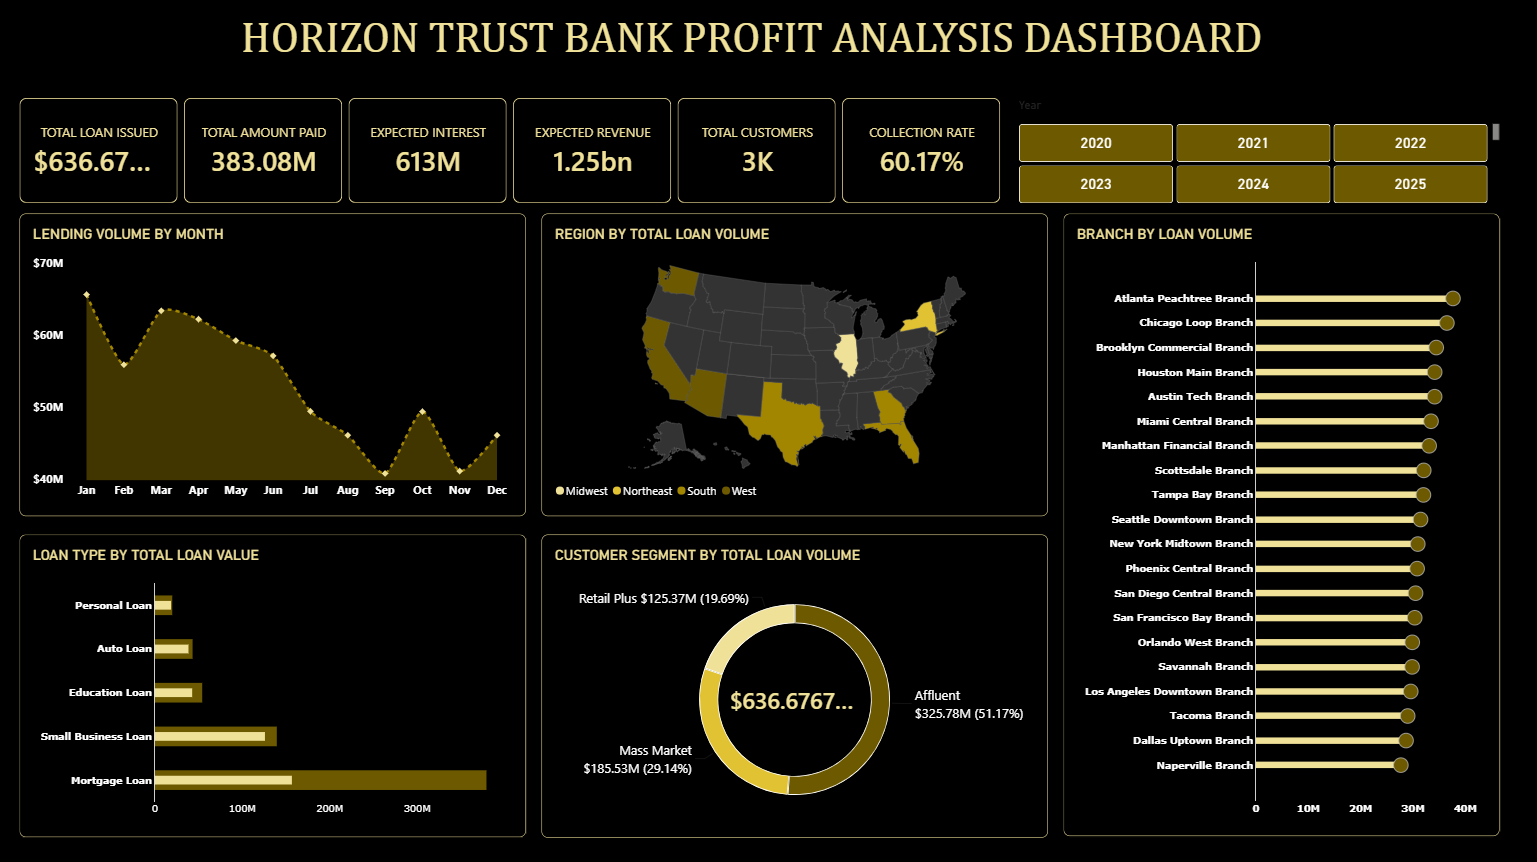

The page's visual inventory and layout, read from the dashboard file:
{"tool":"powerbi","page":{"name":"PROFIT","canvas":[1920,1080],"ordinal":0},"visuals":[{"type":"cardVisual","fields":{"Data":["MEASURES DIM.TOTAL LOAN ISSUED","MEASURES DIM.TOTAL AMOUNT PAID","MEASURES DIM.TOTAL EXPECTED INTEREST","MEASURES DIM.EXPECTED REVENUE","MEASURES DIM.TOTAL CUSTOMERS","MEASURES DIM.COLLECTION RATE"]},"box":[32.1,126.1,1219.9,130.7],"z":0},{"type":"lineChart","title":"LENDING VOLUME BY MONTH","fields":{"Category":["CALENDER DIM.Month(SF)"],"Y":["MEASURES DIM.TOTAL LOAN ISSUED"]},"box":[32.1,270.6,628,375],"z":1000},{"type":"horizontalbullechartAD848DB2E71C1BBC88C027512FD82044","title":"LOAN TYPE BY TOTAL LOAN VALUE","fields":{"col_0":["LOAN TYPE DIM.LoanTypeName"],"col_2":["MEASURES DIM.TOTAL LOAN ISSUED"],"col_1":["MEASURES DIM.TOTAL AMOUNT PAID"]},"box":[32.1,667.3,628,375],"z":2000},{"type":"shapeMap","title":"REGION BY TOTAL LOAN VOLUME","fields":{"Category":["STATE DIM.StateName"],"Series":["STATE DIM.MarketRegion"],"Value":["MEASURES DIM.TOTAL LOAN ISSUED"]},"box":[678.7,270.6,628,375],"z":3000},{"type":"lollipopbar3906E14BA17BC92E464868265E6264D9","title":"BRANCH BY LOAN VOLUME","fields":{"col_0":["BRANCH DIM.BranchName"],"col_1":["MEASURES DIM.TOTAL LOAN ISSUED"]},"box":[1326.4,270.3,540.6,772.2],"z":4000},{"type":"donutChart","title":"CUSTOMER SEGMENT BY TOTAL LOAN VOLUME","fields":{"Category":["CUSTOMER DIM.CustomerSegment"],"Y":["MEASURES DIM.TOTAL LOAN ISSUED"]},"box":[678.7,667.3,628.3,376.1],"z":5000},{"type":"advancedSlicerVisual","fields":{"Values":["CALENDER DIM.Year"]},"box":[1270.3,126.1,596.2,130.7],"z":6000},{"type":"textbox","box":[100.9,18.3,1678.5,107.8],"z":7000}]}

Visuals, with their boxes in screenshot pixels (x1, y1, x2, y2), scaled from the page's 1920x1080 canvas onto the 1537x862 screenshot:
cardVisual - MEASURES DIM.TOTAL LOAN ISSUED x MEASURES DIM.TOTAL AMOUNT PAID: x1=26, y1=101, x2=1002, y2=205
"LENDING VOLUME BY MONTH" lineChart: x1=26, y1=216, x2=528, y2=515
"LOAN TYPE BY TOTAL LOAN VALUE" horizontalbullechartAD848DB2E71C1BBC88C027512FD82044: x1=26, y1=533, x2=528, y2=832
"REGION BY TOTAL LOAN VOLUME" shapeMap: x1=543, y1=216, x2=1046, y2=515
"BRANCH BY LOAN VOLUME" lollipopbar3906E14BA17BC92E464868265E6264D9: x1=1062, y1=216, x2=1495, y2=832
"CUSTOMER SEGMENT BY TOTAL LOAN VOLUME" donutChart: x1=543, y1=533, x2=1046, y2=833
advancedSlicerVisual - CALENDER DIM.Year: x1=1017, y1=101, x2=1494, y2=205
textbox: x1=81, y1=15, x2=1424, y2=101
